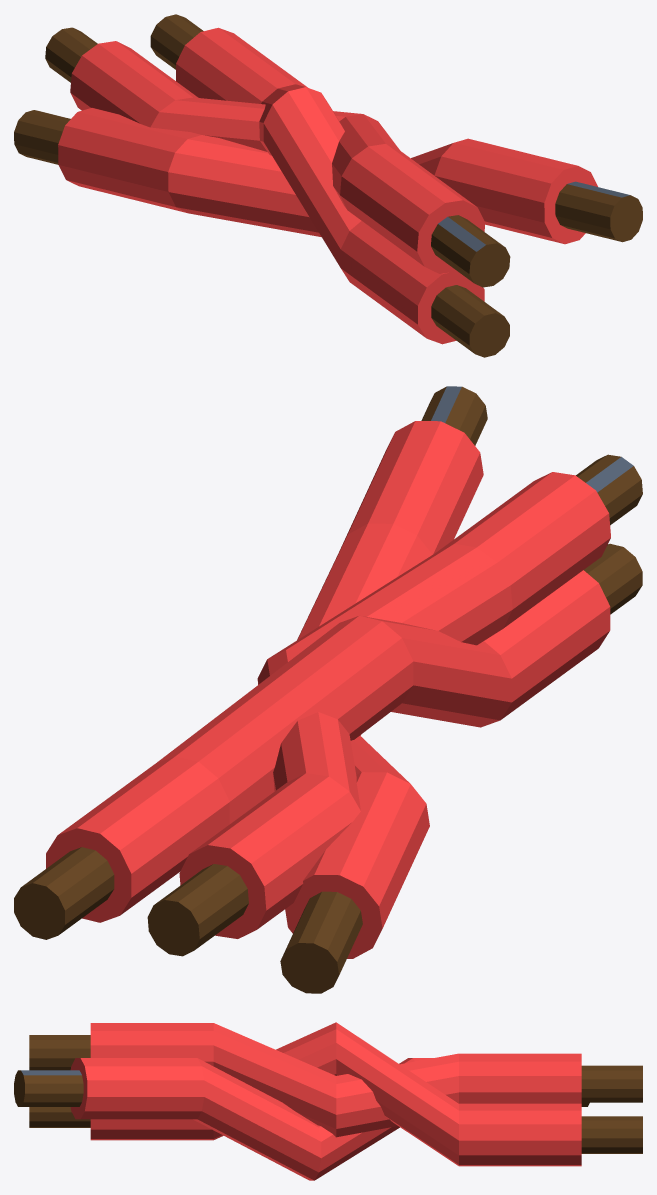
The model's file is BrokenWires.fbx.
3 renders of one model, top to bottom at view 1: azimuth 30°, elevation 25°; view 2: azimuth 150°, elevation 25°; view 3: azimuth 270°, elevation 25°, orthographic. The views are drawn at different scales.
Parts seen in each view (by area): view 1: cylinder_1, cylinder, cylinder_2; view 2: cylinder, cylinder_2, cylinder_1; view 3: cylinder_2, cylinder, cylinder_1.
Boxes of the visible parts, box(x1,y1,x2,y2) form: cylinder_1: box(14, 108, 642, 244); cylinder: box(150, 14, 509, 357); cylinder_2: box(45, 27, 510, 287); cylinder: box(14, 543, 642, 939); cylinder_2: box(147, 454, 642, 956); cylinder_1: box(280, 386, 487, 993); cylinder_2: box(29, 1023, 642, 1137); cylinder: box(29, 1022, 642, 1166); cylinder_1: box(14, 1058, 589, 1180).
Bounding box in the file's own units: 26.1 × 15.21 × 64.08.
Materials: 1 (1 with a texture image).
